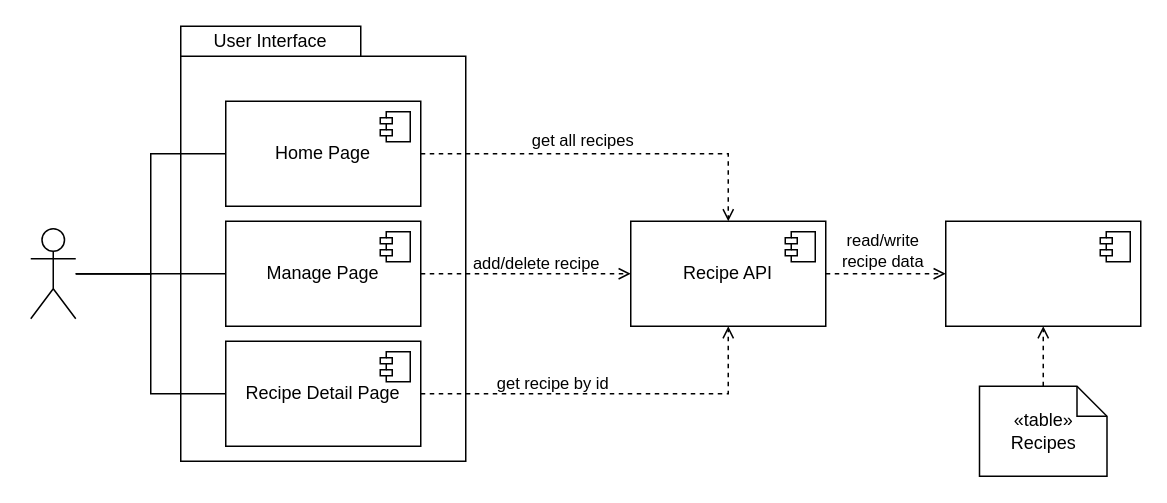
The diagram is 1167 pixels wide and 503 high, and some of its shapes have lost their labels. The centre of each missing label's shape, as x and y in pixels:
"Bruger" belongs at point (52, 273).
"«database» SQLite" belongs at point (1042, 273).
